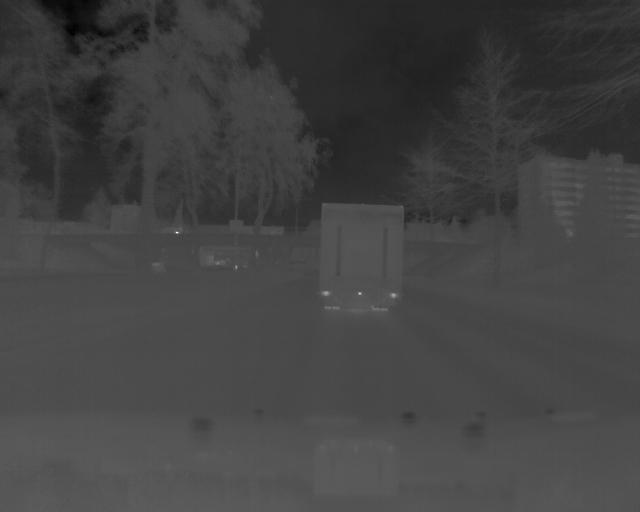car: (316, 197, 409, 315), (147, 258, 167, 275)
